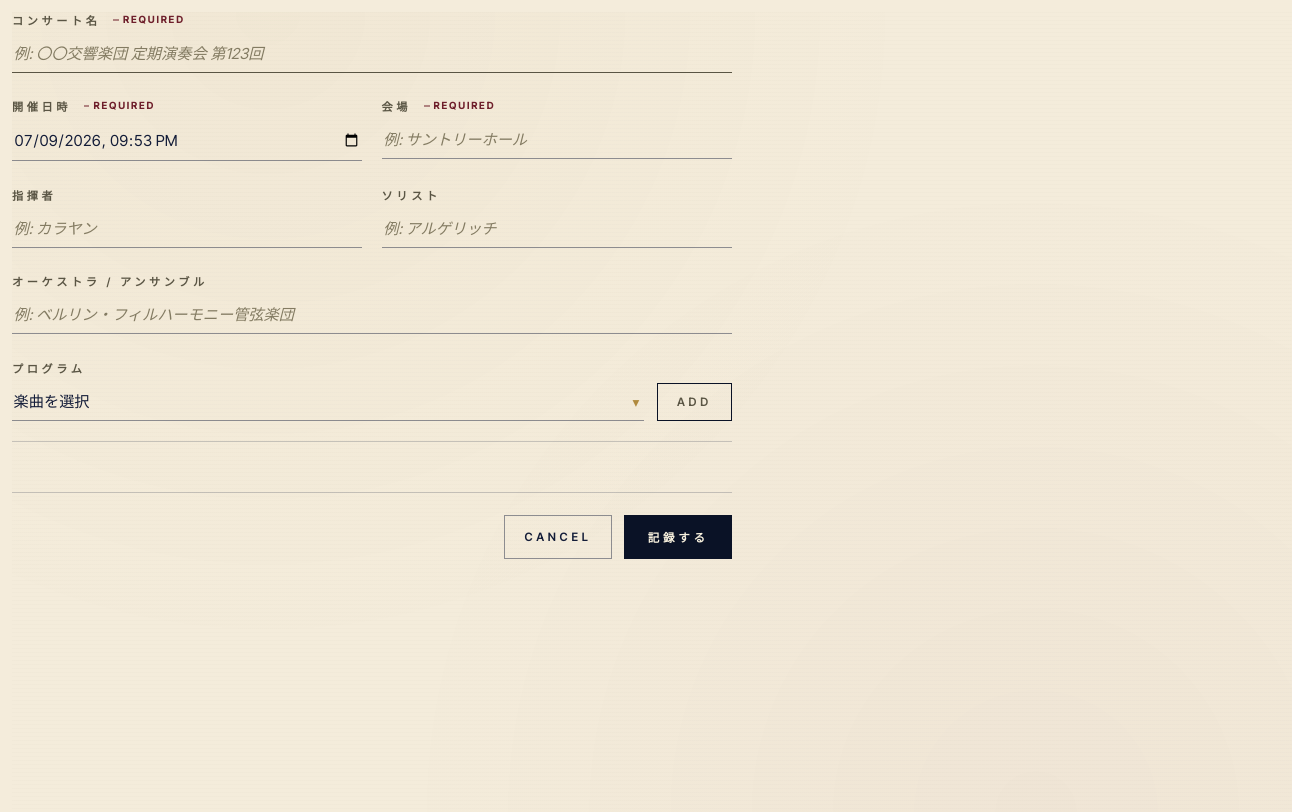
Test: ConcertLogForm › 楽曲選択 › 追加した楽曲をプログラムリストから削除できる
Select "交響曲第9番 / (不明)" in the dropdown with test id "piece-select" at (328, 402), box [12,384,644,421]
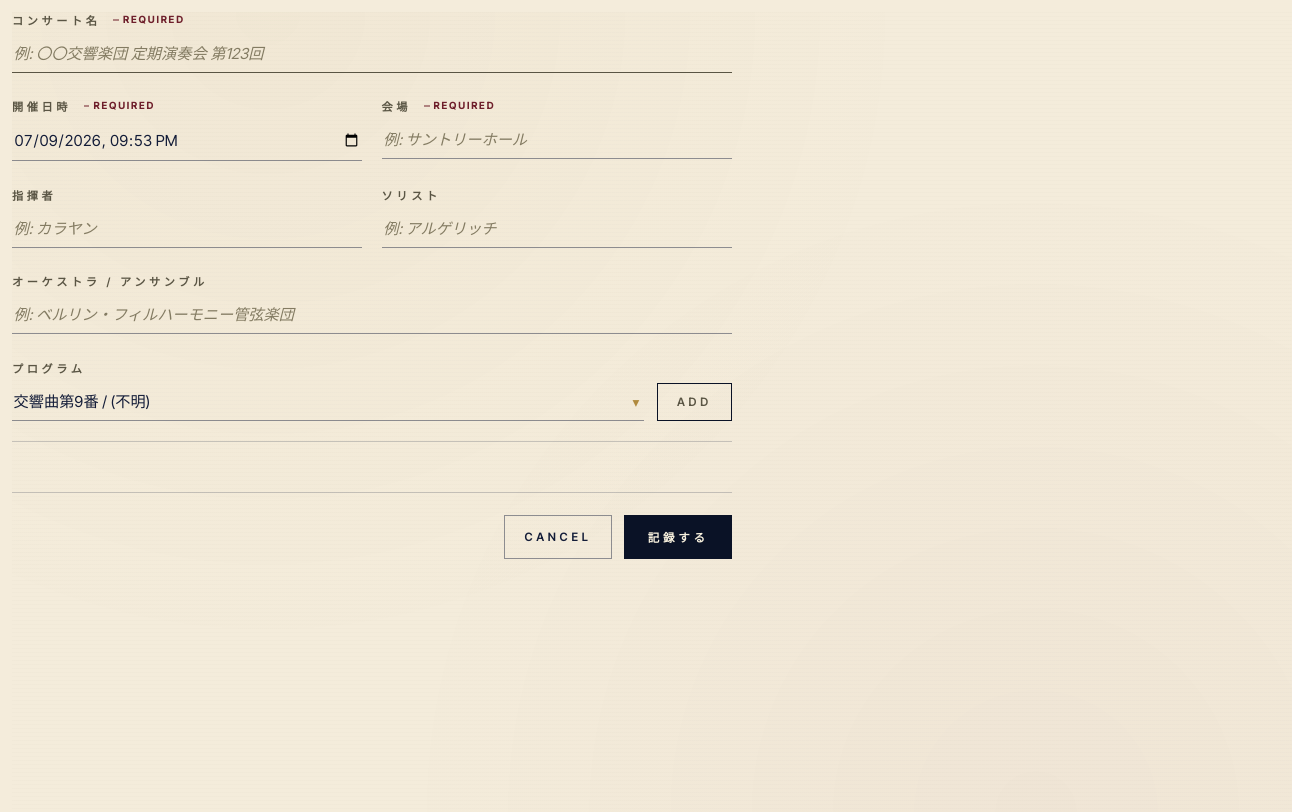
Click the button with test id "add-piece" at (694, 402), box [657,383,732,421]
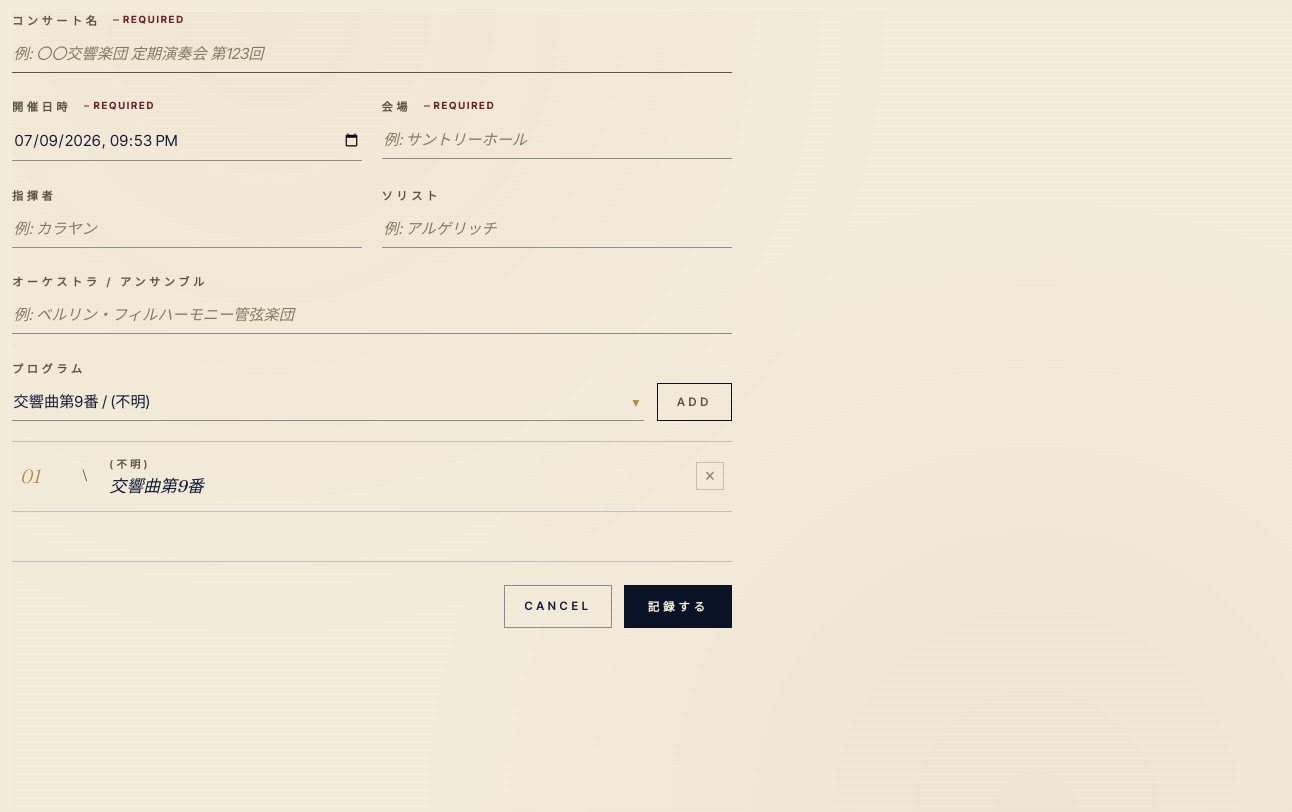
Click the button with test id "remove-piece" at (710, 476), box [696,462,724,490]
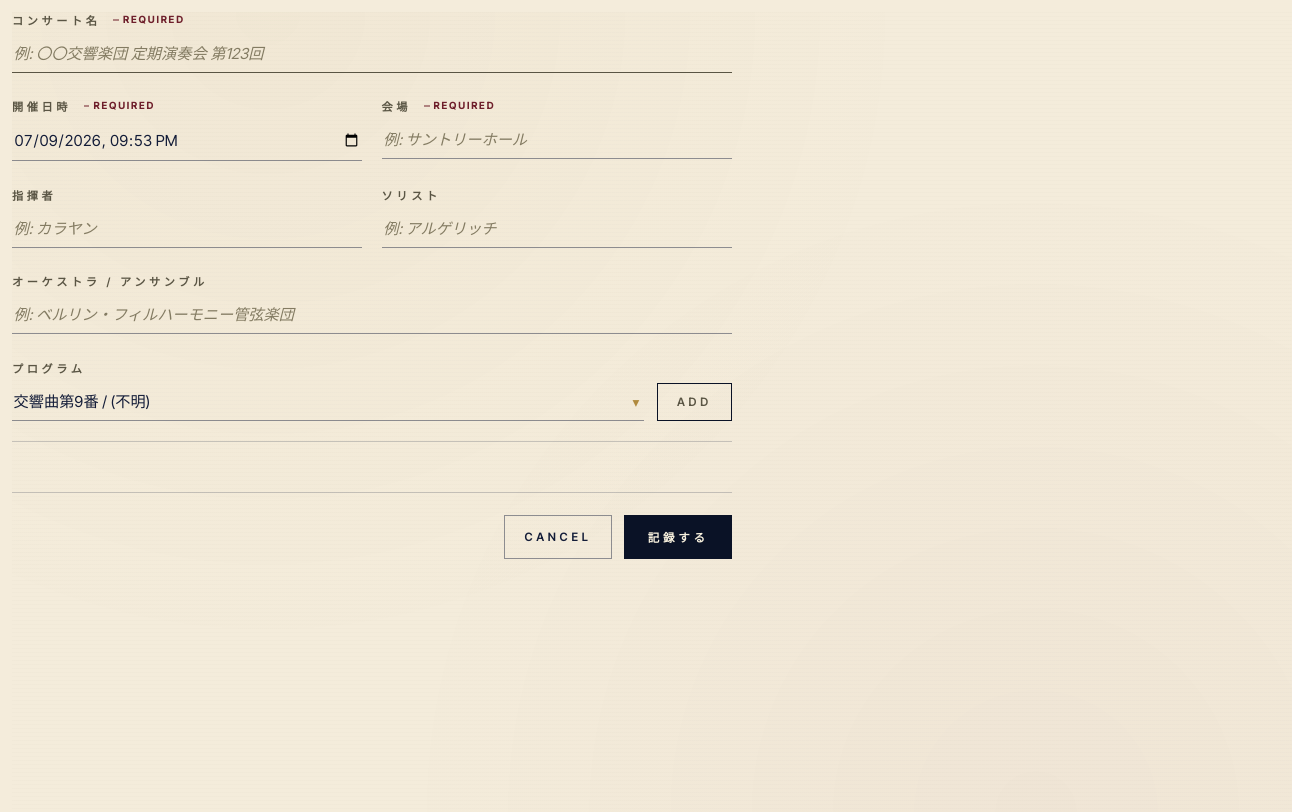
Check: no list items with test id "program-item" are shown
